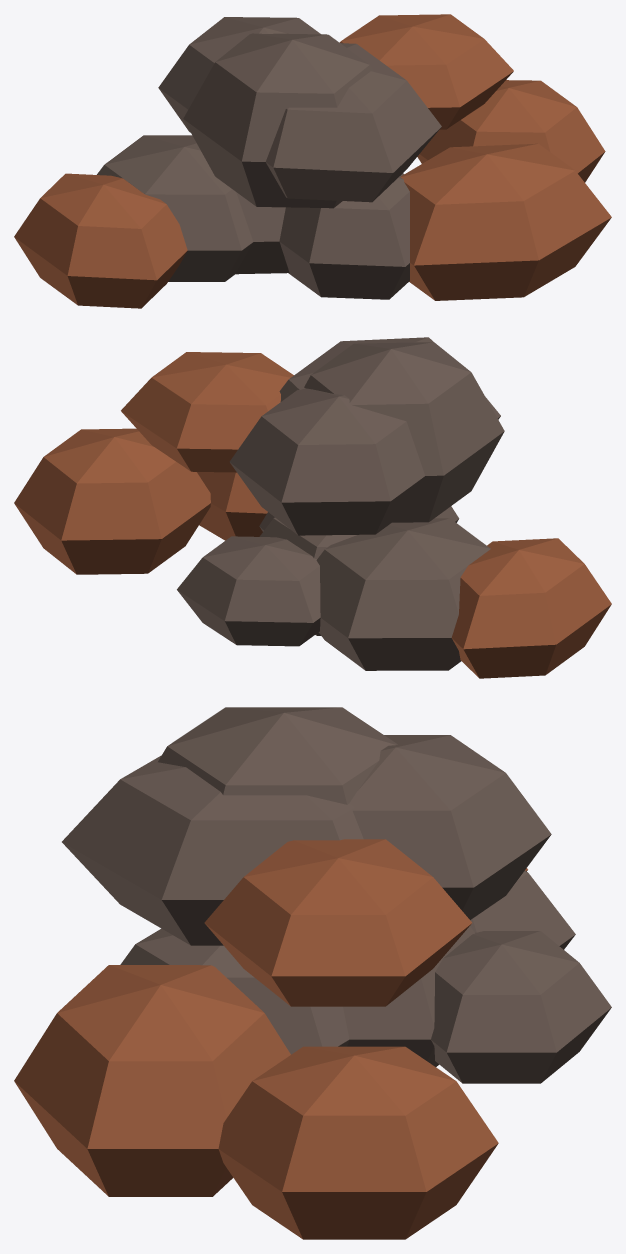
The model's file is pile_iron_ore_2.glb.
The picture shows the model from 3 angles, top to bottom: view 1: azimuth 30°, elevation 25°; view 2: azimuth 150°, elevation 25°; view 3: azimuth 270°, elevation 25°; orthographic projection. The views are drawn at different scales.
Visible parts, largest first — view 1: pile_iron_ore_2; view 2: pile_iron_ore_2; view 3: pile_iron_ore_2.
Boxes of the visible parts, left/top/right/bottom form: pile_iron_ore_2: left=14, top=14, right=611, bottom=308; pile_iron_ore_2: left=14, top=337, right=611, bottom=678; pile_iron_ore_2: left=14, top=707, right=611, bottom=1239.
Bounding box in the file's own units: 1.15 × 0.5278 × 0.794.
